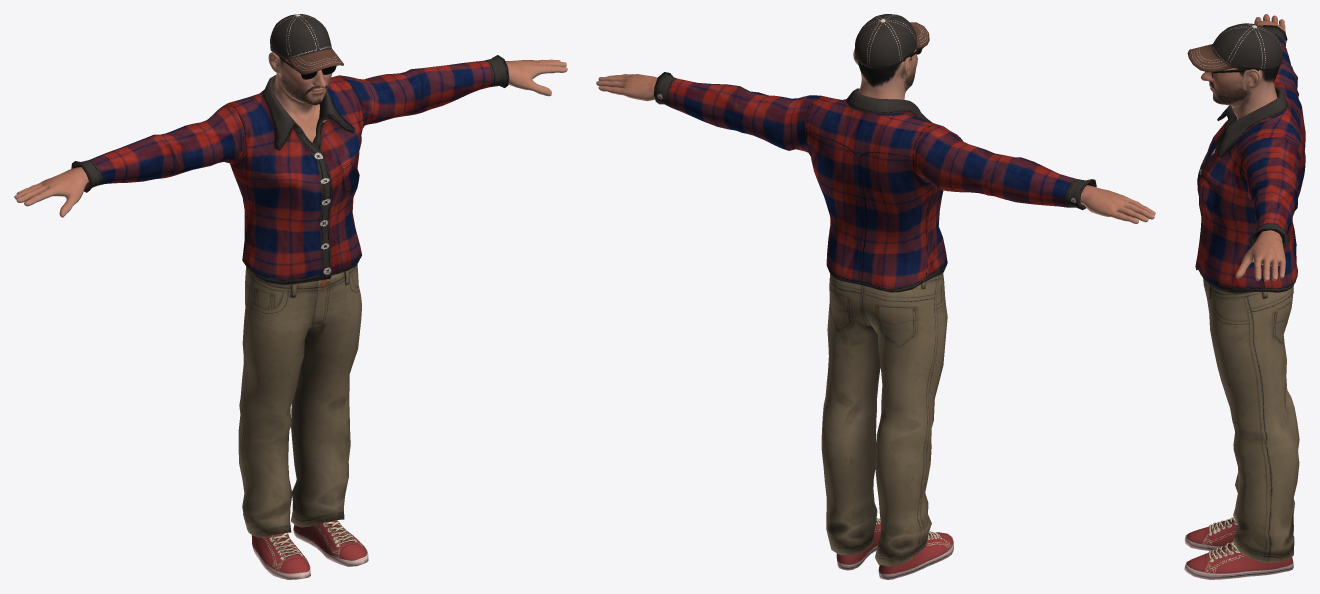
File: NPC1.obj
3 renders of one model, left to right at view 1: azimuth 30°, elevation 25°; view 2: azimuth 150°, elevation 25°; view 3: azimuth 270°, elevation 25°, orthographic.
Visible parts, largest first — view 1: Tops, Bottoms, Body, Shoes, Hats; view 2: Tops, Bottoms, Body, Hats, Shoes; view 3: Bottoms, Tops, Body, Shoes, Hats.
Part boxes in pixels (x1,y1,x2,y2): Tops: (71,55,509,285); Bottoms: (238,264,361,537); Body: (14,52,567,217); Shoes: (251,520,368,579); Hats: (270,14,343,74); Tops: (653,72,1096,292); Bottoms: (821,273,947,566); Body: (596,49,1155,223); Hats: (855,14,929,68); Shoes: (836,518,953,579); Bottoms: (1203,278,1299,562); Tops: (1195,25,1305,293); Body: (1201,14,1285,281); Shoes: (1184,517,1293,579); Hats: (1187,23,1282,72).
Bounding box in the file's own units: 194 × 180 × 37.29.
Materials: 6 (6 with a texture image).
